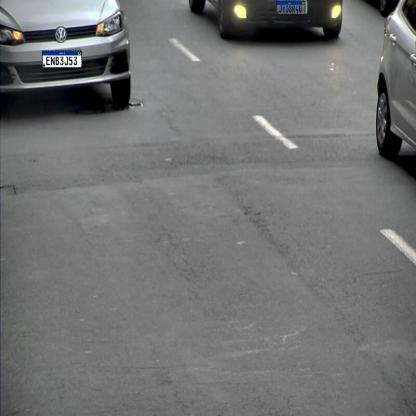PlacaM: (42, 51, 82, 68), (276, 0, 305, 14)
